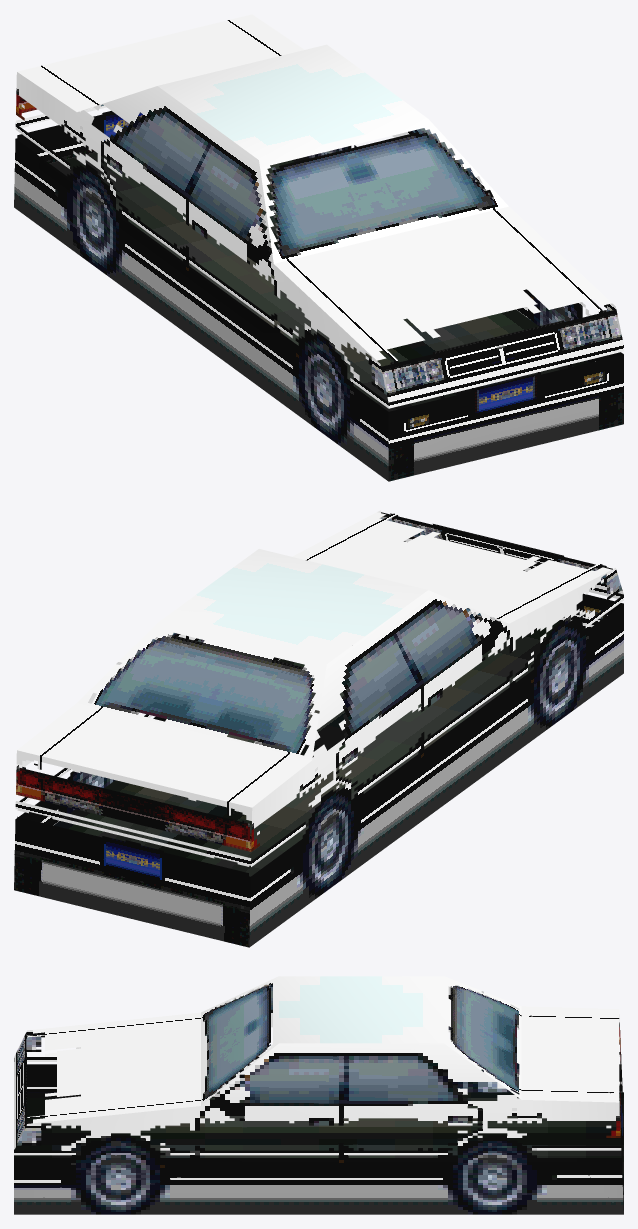
The model's file is glass-183.glb.
The picture shows the model from 3 angles, top to bottom: view 1: azimuth 30°, elevation 25°; view 2: azimuth 150°, elevation 25°; view 3: azimuth 270°, elevation 25°; orthographic projection. The views are drawn at different scales.
Parts seen in each view (by area): view 1: model; view 2: model; view 3: model.
Part boxes in pixels (x1,y1,x2,y2): model: (14, 14, 623, 481); model: (14, 510, 623, 947); model: (14, 976, 623, 1214).
Size of the model in its own units: 17.76 by 14.02 by 48.97.
Materials: 4 (4 with a texture image).
